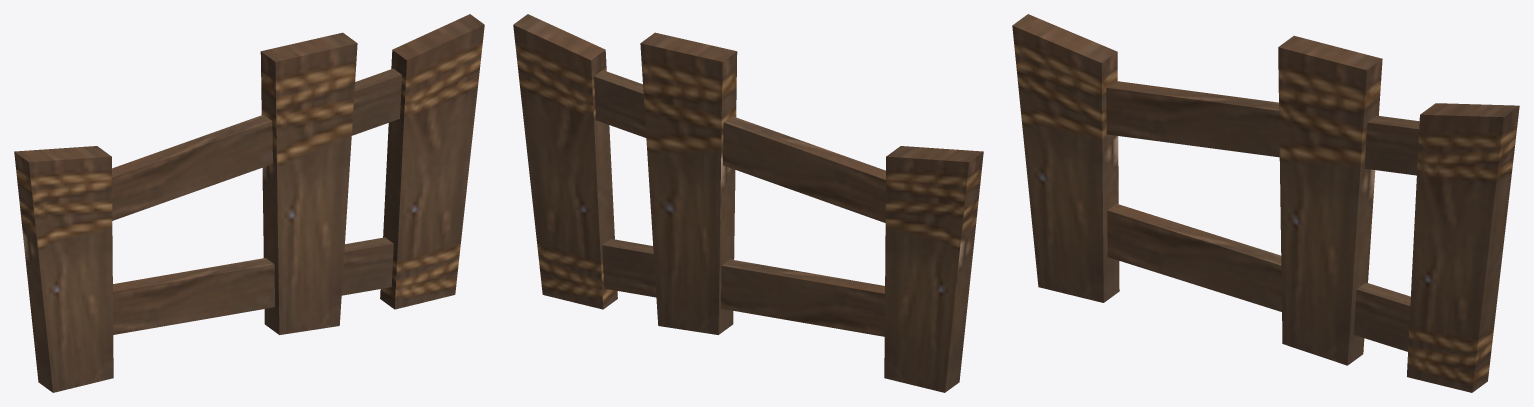
File: fence_metal_3.FBX
3 renders of one model, left to right at view 1: azimuth 30°, elevation 25°; view 2: azimuth 150°, elevation 25°; view 3: azimuth 330°, elevation 25°, orthographic. The views are drawn at different scales.
Parts seen in each view (by area): view 1: Object036; view 2: Object036; view 3: Object036.
Part boxes in pixels (box(x1,y1,x2,y2)): Object036: box(14, 14, 484, 392); Object036: box(513, 14, 983, 392); Object036: box(1012, 14, 1519, 392).
Bounding box in the file's own units: 56.89 × 3.17 × 33.35.
